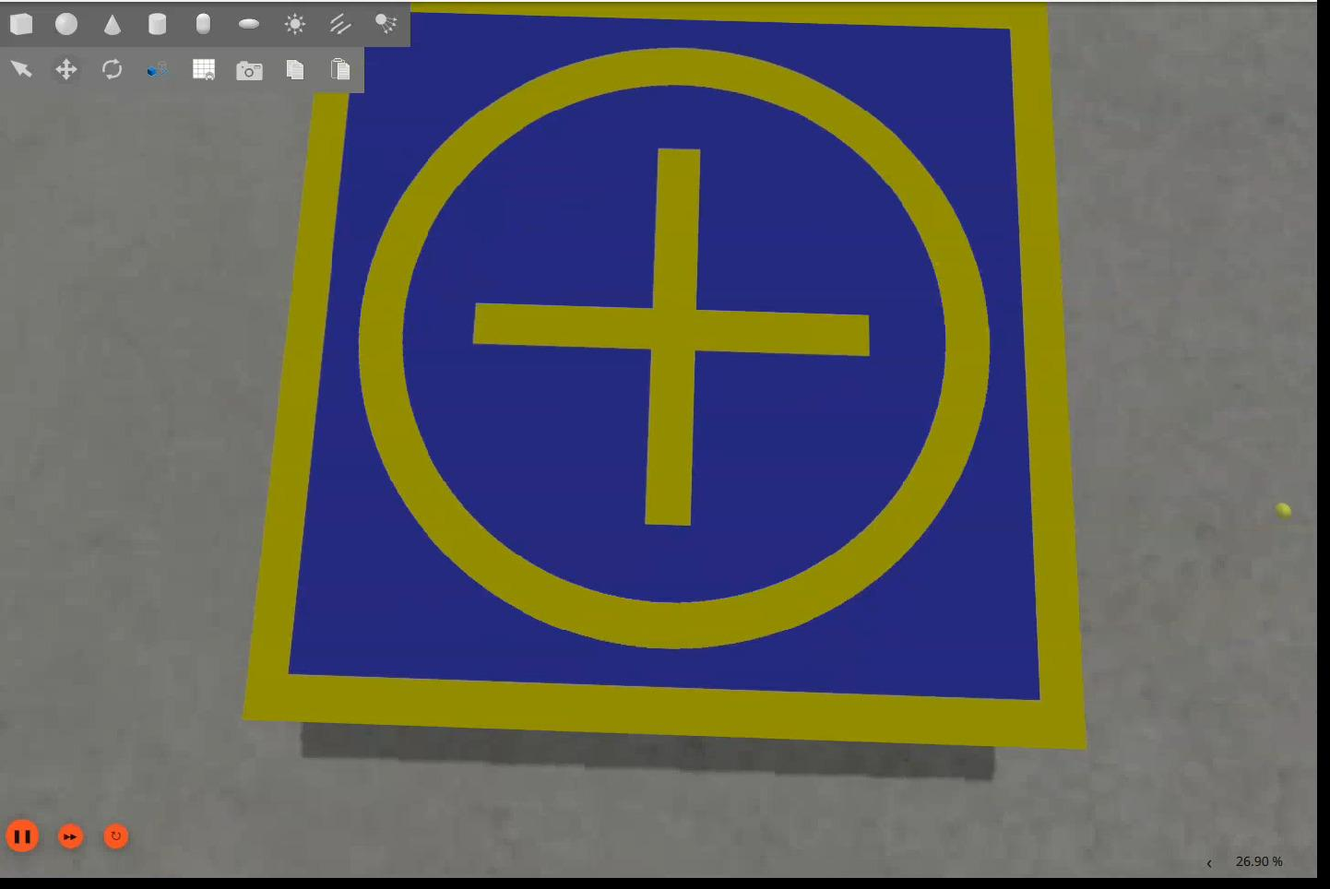small_base: (242, 1, 1085, 753)
